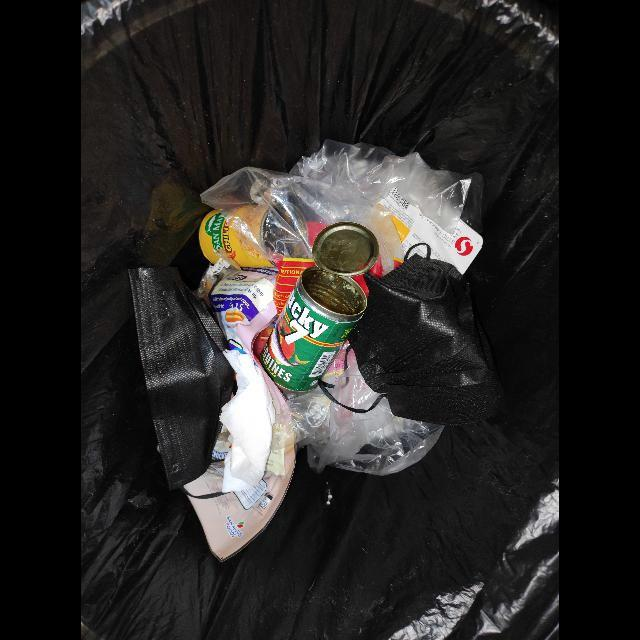aluminum: (260, 222, 380, 393), (199, 205, 284, 270), (293, 204, 309, 239)
food_wrapper: (184, 259, 296, 562), (378, 188, 484, 275)
paper: (220, 349, 276, 495)
plastic_bag: (200, 139, 466, 278), (272, 342, 445, 476)
